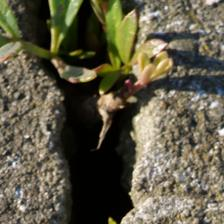Crack: (9, 5, 147, 216)
